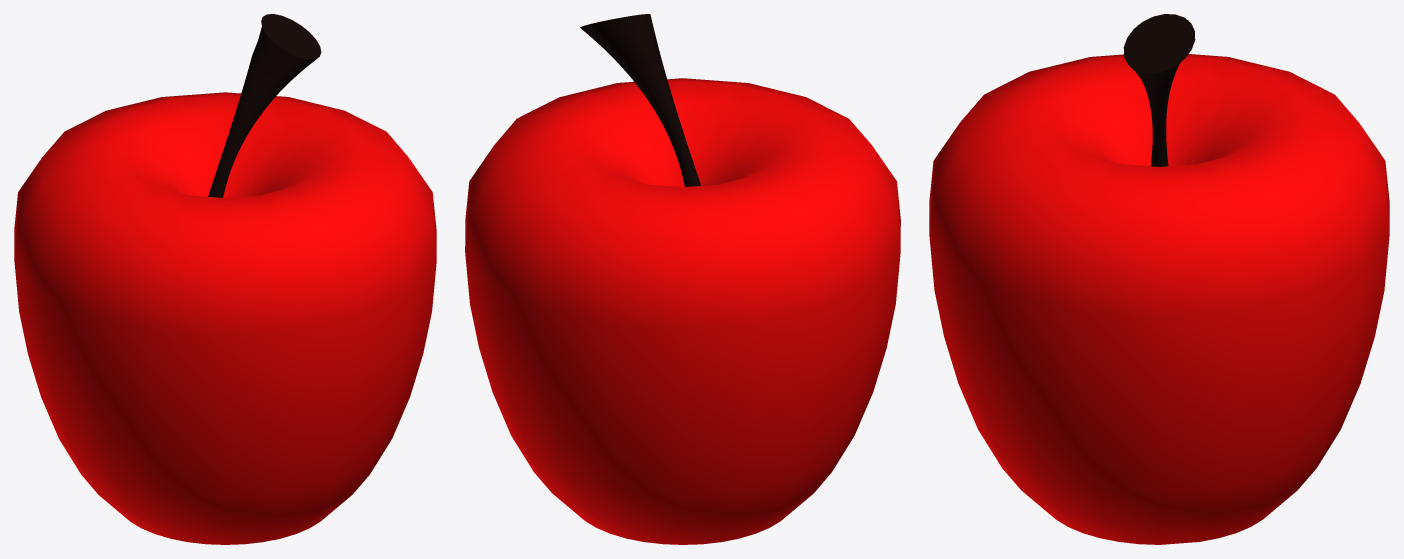
Rendered from apple.obj.
3 renders of one model, left to right at view 1: azimuth 30°, elevation 25°; view 2: azimuth 150°, elevation 25°; view 3: azimuth 270°, elevation 25°, orthographic. The views are drawn at different scales.
Parts seen in each view (by area): view 1: nurbsToPoly1, nurbsToPoly2, nurbsToPoly3; view 2: nurbsToPoly1, nurbsToPoly2; view 3: nurbsToPoly1, nurbsToPoly3, nurbsToPoly2.
Boxes of the visible parts, left/top/right/bottom form: nurbsToPoly1: left=14, top=92, right=436, bottom=544; nurbsToPoly2: left=208, top=27, right=317, bottom=197; nurbsToPoly3: left=261, top=14, right=321, bottom=59; nurbsToPoly1: left=465, top=78, right=900, bottom=544; nurbsToPoly2: left=580, top=14, right=700, bottom=186; nurbsToPoly1: left=929, top=54, right=1389, bottom=544; nurbsToPoly3: left=1123, top=14, right=1195, bottom=73; nurbsToPoly2: left=1124, top=20, right=1188, bottom=166.
Size of the model in its own units: 12.31 by 14.85 by 12.11.
